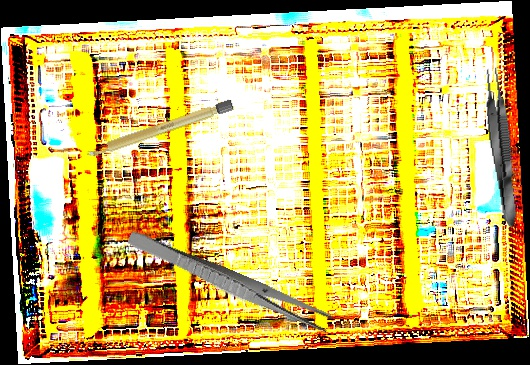Dressing Forceps: (123, 228, 335, 336)
Scalpel Handle: (84, 98, 235, 160)
Tissue Forceps: (479, 65, 523, 230)
